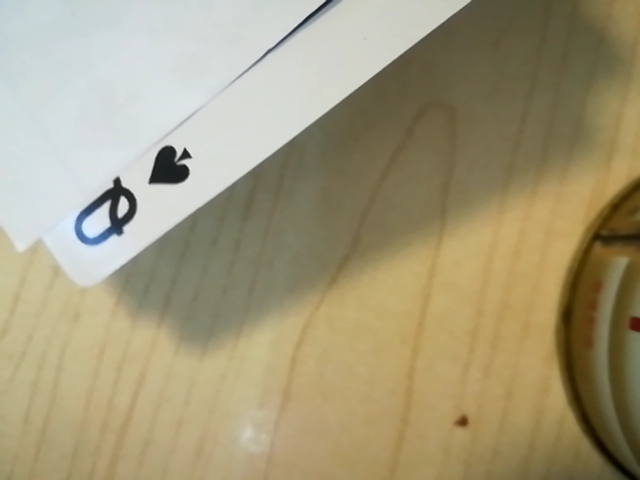ht q: (58, 132, 208, 258)
